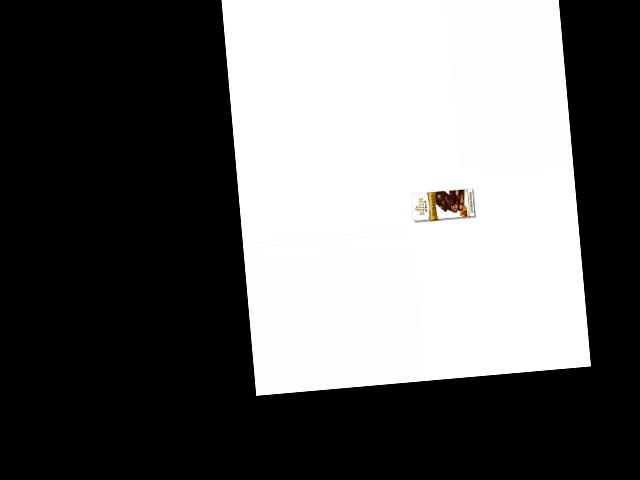chocolate: (406, 182, 475, 228)
